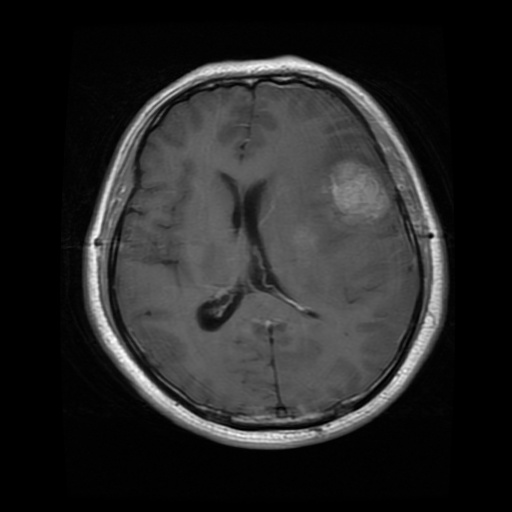meningioma: (328, 158, 391, 223)
